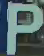Parking: (5, 2, 40, 55)
